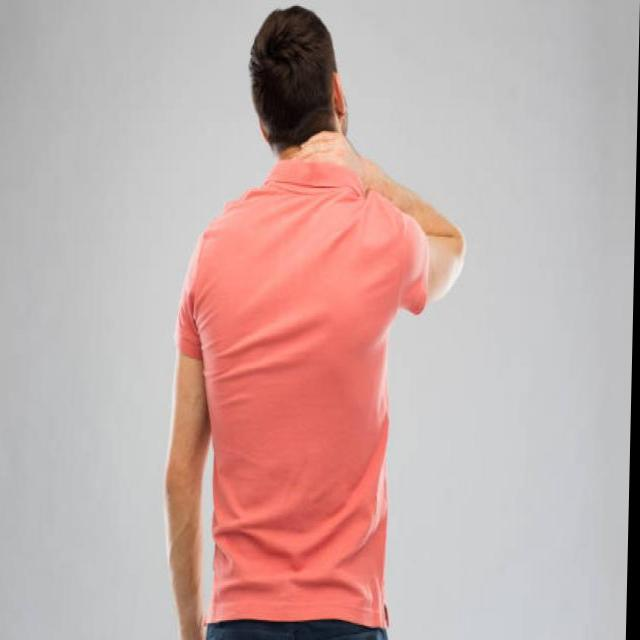no helmet: (248, 9, 350, 158)
